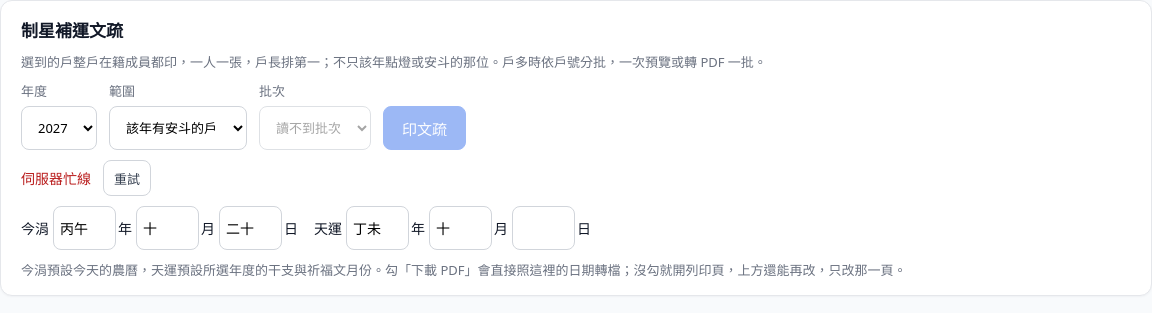
it: WenshuSection › shows a failed batch lookup next to the select and loads again on retry
Expected: the message "伺服器忙線 重試" is shown, [21,160,151,196]
Expected: the button "印文疏" is disabled, [383,106,466,150]
Click the button "重試": (127, 178) [103,160,151,196]
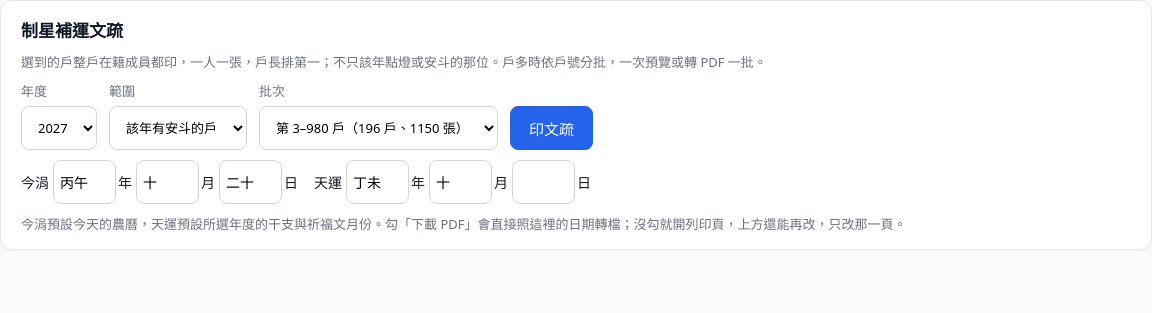
Result: the message "伺服器忙線 重試" is gone
Result: the button "印文疏" is enabled at [510,106,593,150]
